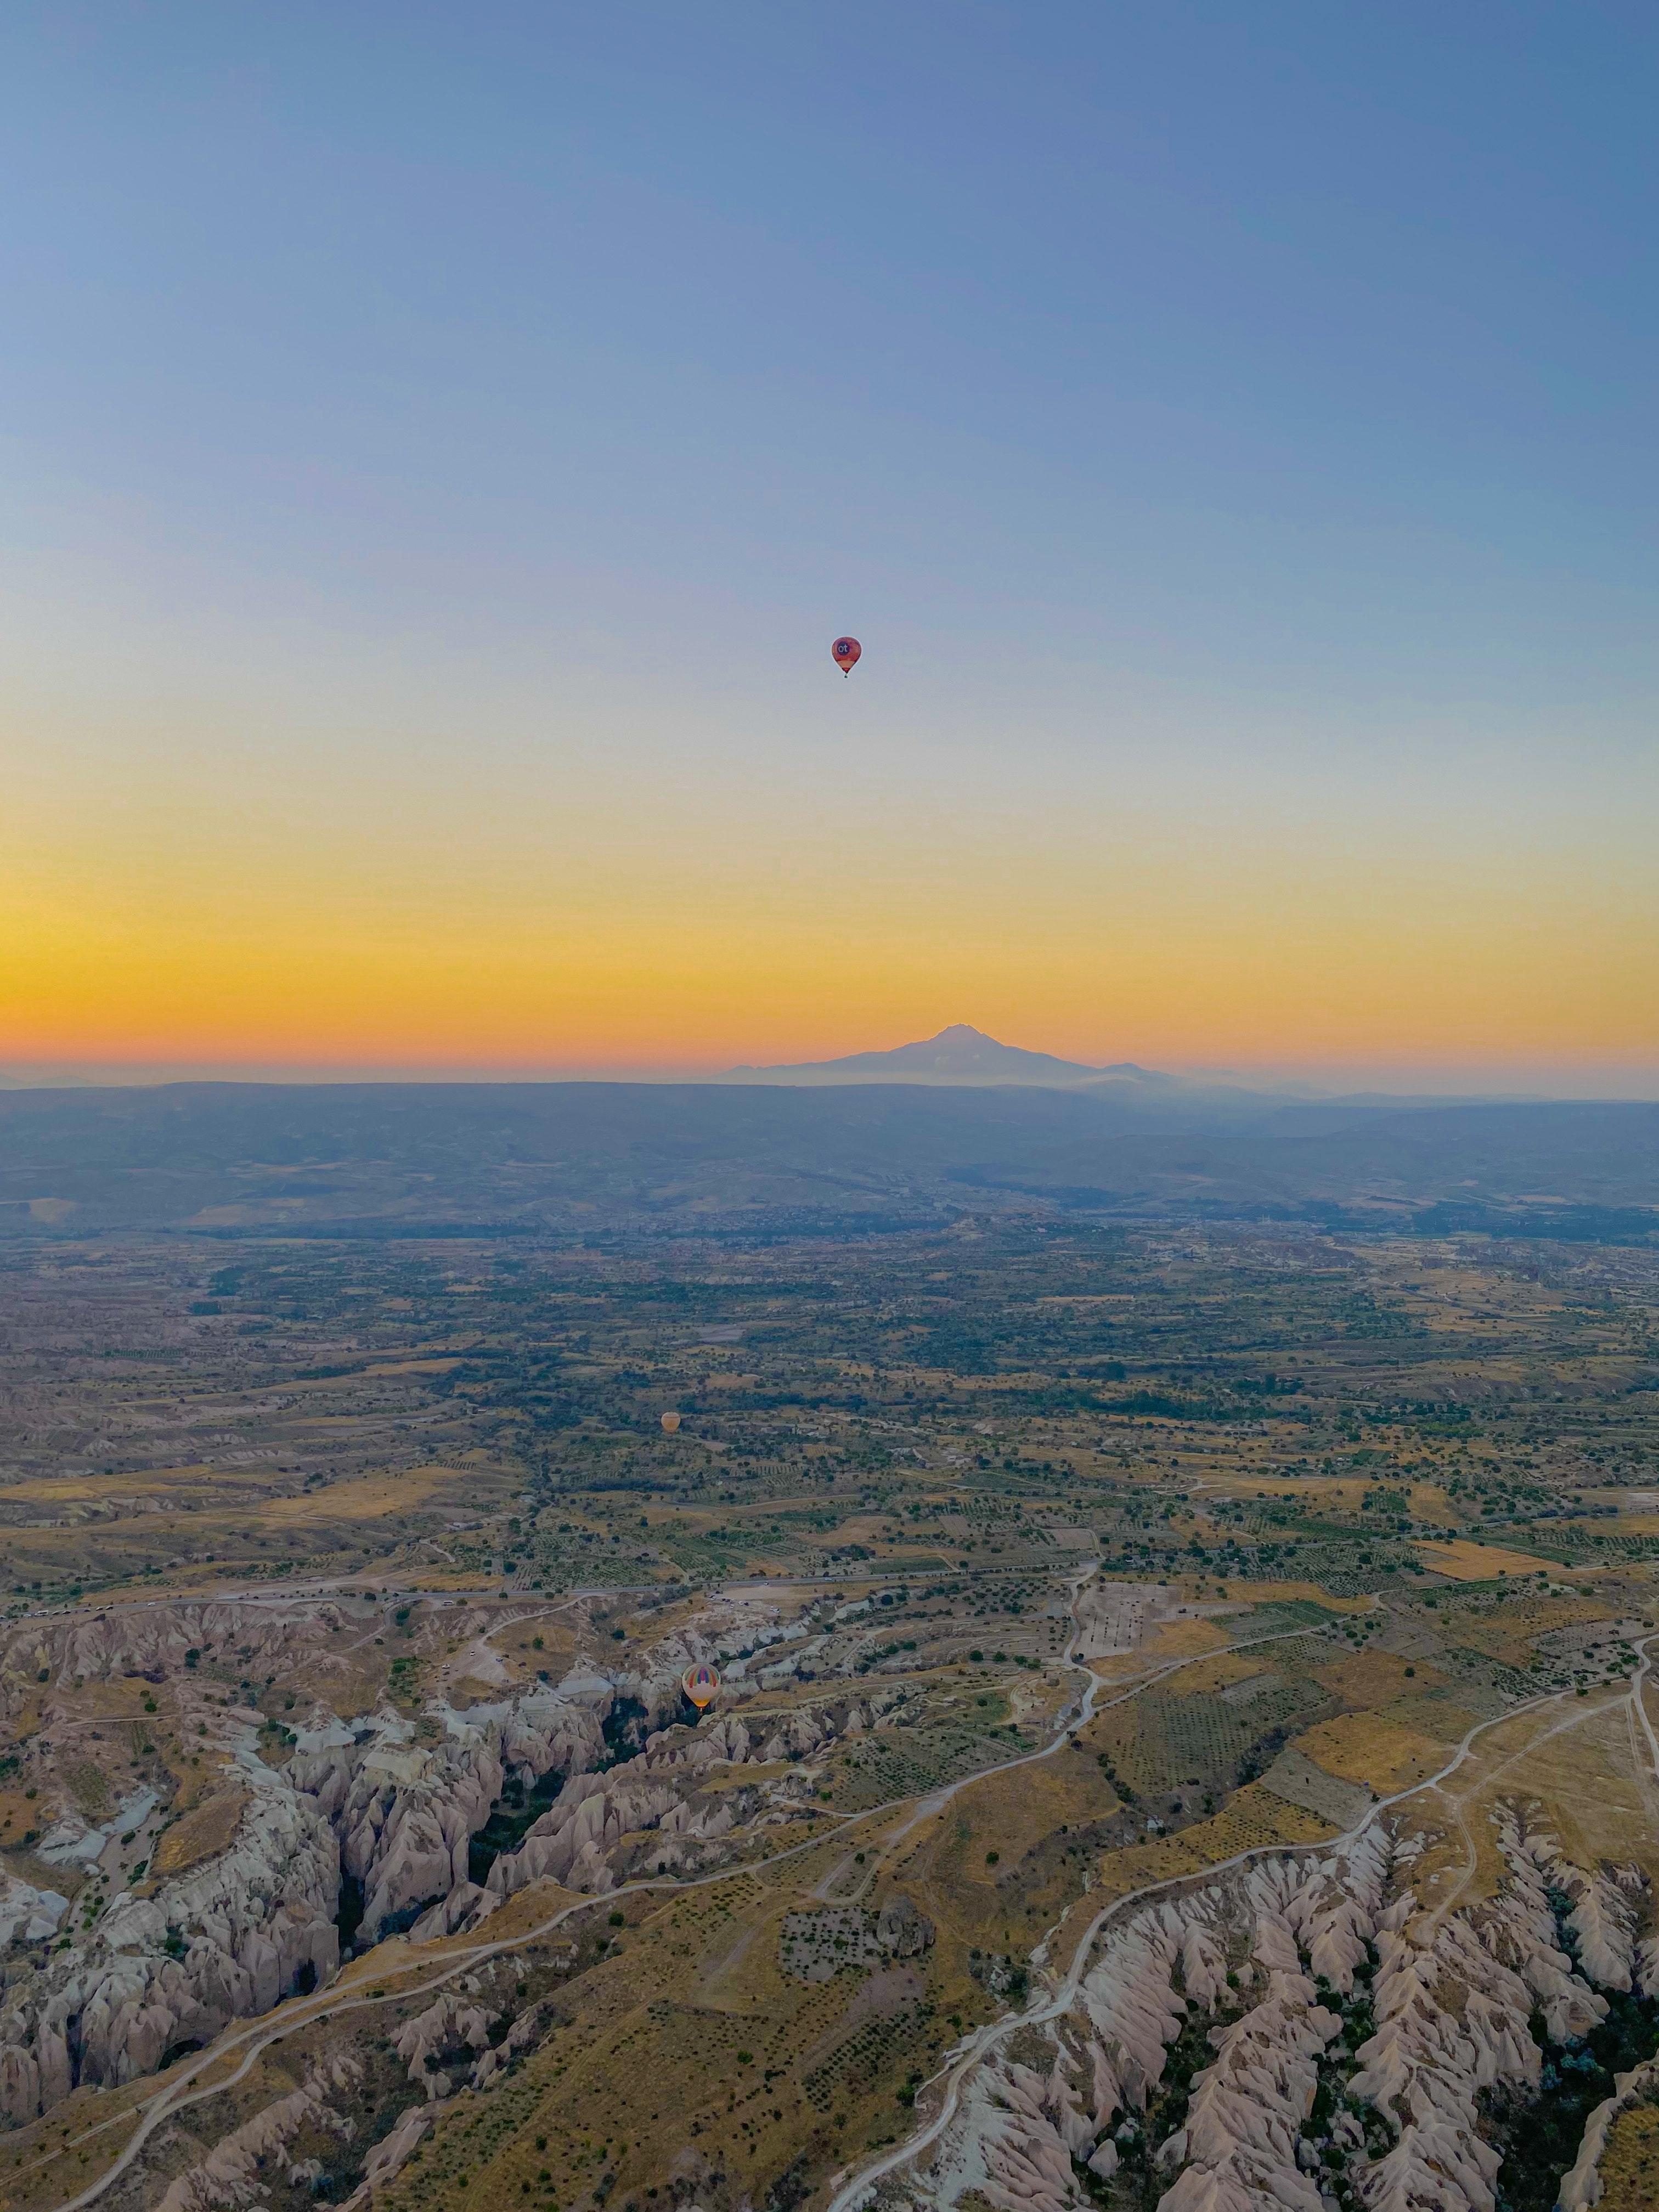hot air ballon: (831, 636, 863, 678)
